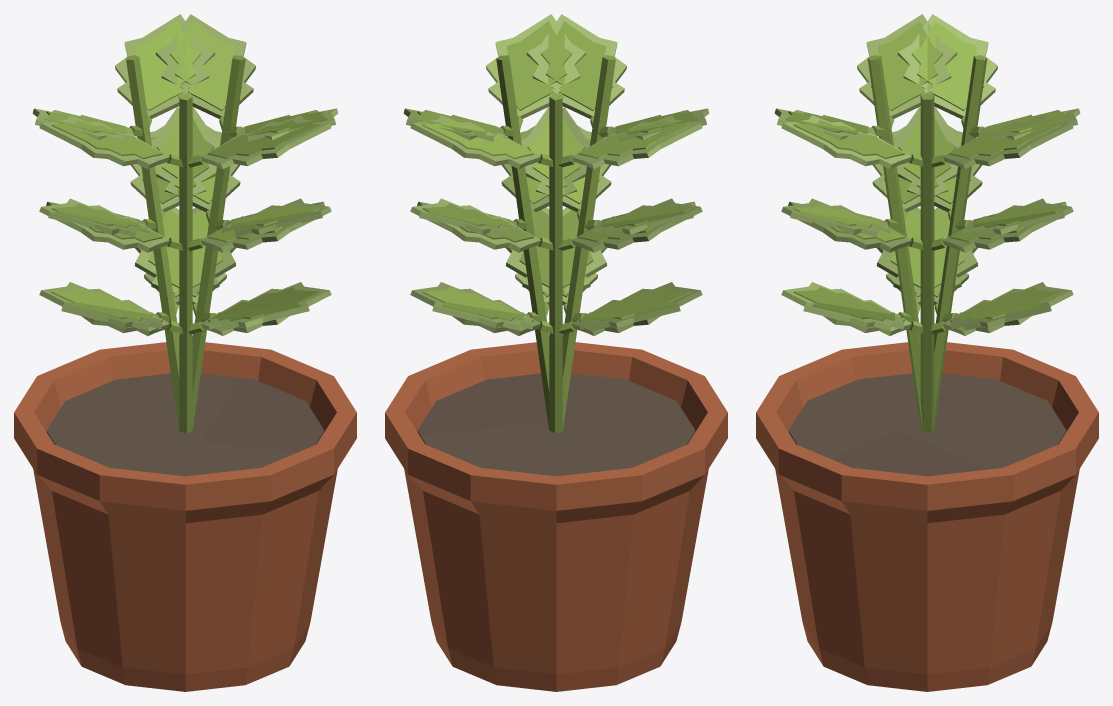
Rendered from coleus.glb.
3 renders of one model, left to right at view 1: azimuth 30°, elevation 25°; view 2: azimuth 150°, elevation 25°; view 3: azimuth 270°, elevation 25°, orthographic.
Visible parts, largest first — view 1: coleus/review-terra-vessel, coleus/review-rooted-soil, coleus/petiole-039, coleus/petiole-020, coleus/petiole-001, coleus/variegated-leaf-center-019, coleus/variegated-leaf-center-035, coleus/leaf-034, coleus/leaf-018, coleus/leaf-053, coleus/leaf-056, coleus/variegated-leaf-center-054 (+27 smaller); view 2: coleus/review-terra-vessel, coleus/review-rooted-soil, coleus/petiole-020, coleus/petiole-039, coleus/petiole-001, coleus/variegated-leaf-center-016, coleus/variegated-leaf-center-057, coleus/leaf-056, coleus/leaf-015, coleus/leaf-034, coleus/leaf-037, coleus/variegated-leaf-center-035 (+27 smaller); view 3: coleus/review-terra-vessel, coleus/review-rooted-soil, coleus/petiole-001, coleus/petiole-039, coleus/petiole-020, coleus/variegated-leaf-center-038, coleus/variegated-leaf-center-054, coleus/leaf-037, coleus/leaf-053, coleus/leaf-015, coleus/leaf-018, coleus/variegated-leaf-center-016 (+27 smaller).
Boxes of the visible parts, box(x1,y1,x2,y2) form: coleus/review-terra-vessel: box(14, 342, 356, 691); coleus/review-rooted-soil: box(46, 373, 324, 476); coleus/petiole-039: box(179, 93, 192, 433); coleus/petiole-020: box(126, 55, 179, 431); coleus/petiole-001: box(192, 55, 245, 430); coleus/variegated-leaf-center-019: box(169, 21, 242, 110); coleus/variegated-leaf-center-035: box(128, 21, 201, 110); coleus/leaf-034: box(115, 14, 215, 118); coleus/leaf-018: box(155, 14, 255, 118); coleus/leaf-053: box(39, 115, 169, 169); coleus/leaf-056: box(201, 115, 331, 169); coleus/variegated-leaf-center-054: box(51, 120, 162, 159); coleus/review-terra-vessel: box(385, 342, 727, 691); coleus/review-rooted-soil: box(417, 373, 695, 476); coleus/petiole-020: box(549, 93, 562, 433); coleus/petiole-039: box(562, 55, 615, 431); coleus/petiole-001: box(496, 55, 549, 430); coleus/variegated-leaf-center-016: box(499, 21, 572, 110); coleus/variegated-leaf-center-057: box(540, 21, 613, 110); coleus/leaf-056: box(526, 14, 626, 118); coleus/leaf-015: box(486, 14, 586, 118); coleus/leaf-034: box(410, 115, 540, 169); coleus/leaf-037: box(572, 115, 702, 169); coleus/variegated-leaf-center-035: box(422, 120, 533, 159); coleus/review-terra-vessel: box(756, 342, 1098, 691); coleus/review-rooted-soil: box(788, 373, 1066, 476); coleus/petiole-001: box(920, 92, 934, 432); coleus/petiole-039: box(867, 55, 922, 431); coleus/petiole-020: box(932, 55, 987, 431); coleus/variegated-leaf-center-038: box(911, 21, 984, 110); coleus/variegated-leaf-center-054: box(870, 21, 943, 110); coleus/leaf-037: box(897, 14, 997, 118); coleus/leaf-053: box(857, 14, 957, 118); coleus/leaf-015: box(781, 115, 911, 169); coleus/leaf-018: box(943, 115, 1073, 169); coleus/variegated-leaf-center-016: box(793, 120, 904, 159).
Bounding box in the file's own units: 0.19 × 0.3496 × 0.19.
Materials: 4 (4 with a texture image).
